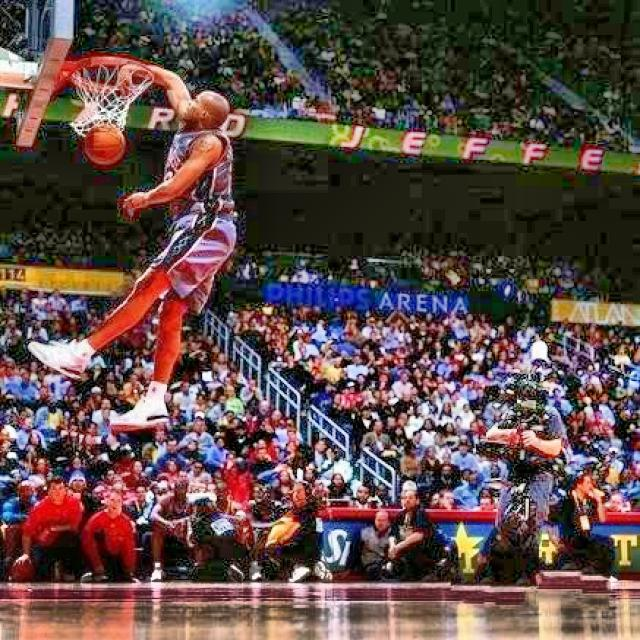board: (84, 124, 127, 166)
rim: (68, 58, 152, 131)
